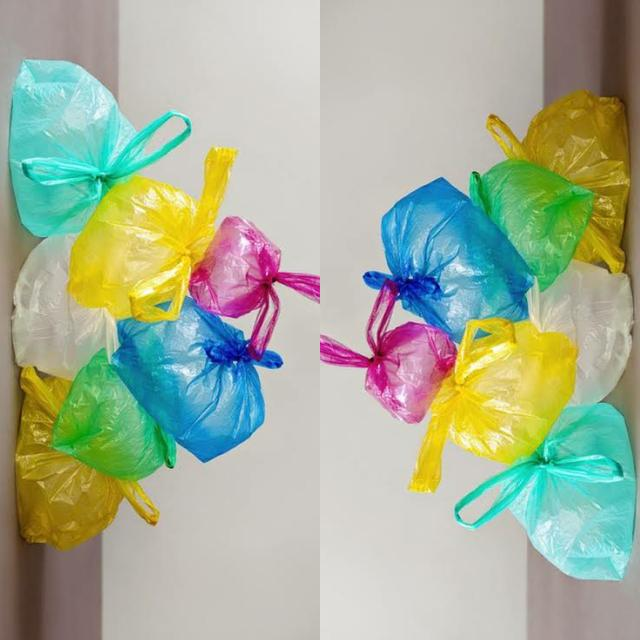Single-layer Plastic: (10, 60, 190, 237), (455, 404, 636, 580), (410, 318, 578, 492), (69, 148, 235, 322), (364, 178, 535, 342), (111, 298, 282, 461), (15, 366, 159, 549), (486, 90, 630, 272), (320, 280, 456, 424), (189, 216, 320, 359), (51, 349, 176, 481), (470, 159, 594, 289), (12, 235, 119, 379), (526, 260, 632, 404)
